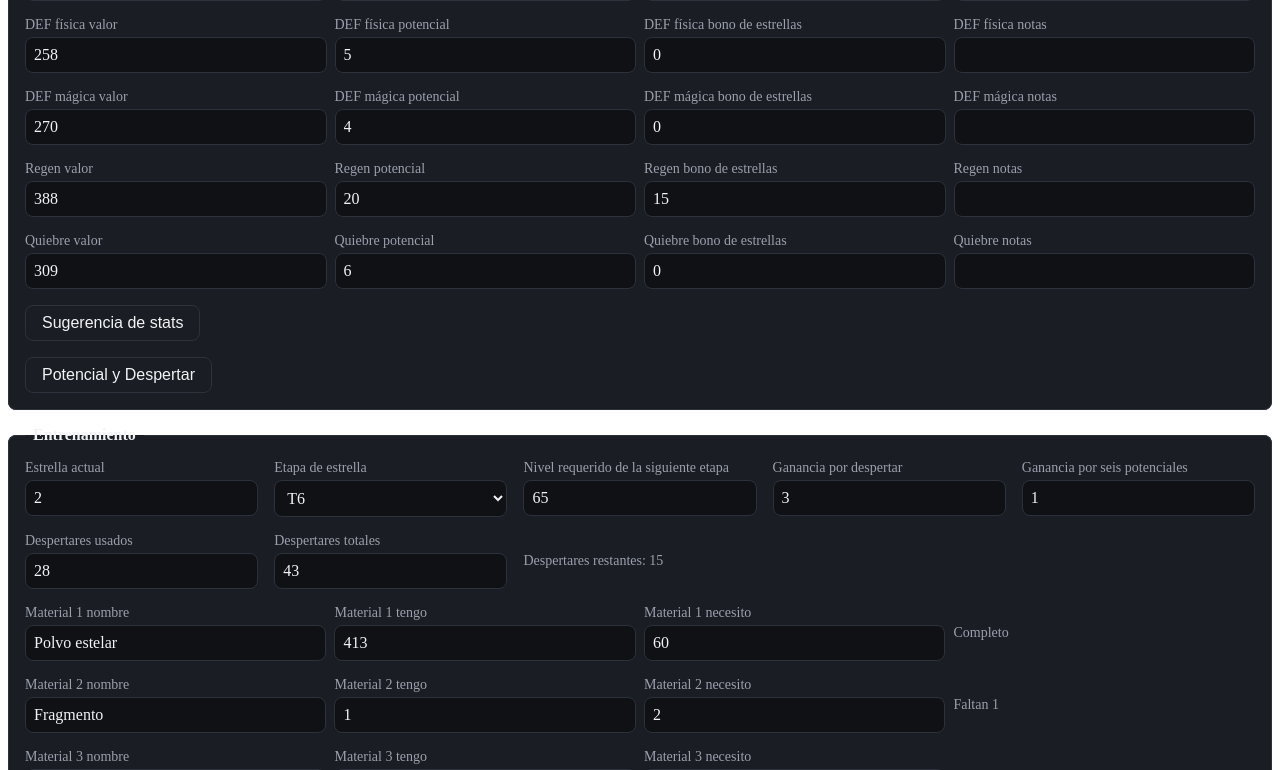
calcular potencial › muestra los parametros con su confianza y la fecha de parche del catalogo
(page scrolled)
Click the button "Potencial y Despertar": click(118, 375) [25,357,212,393]
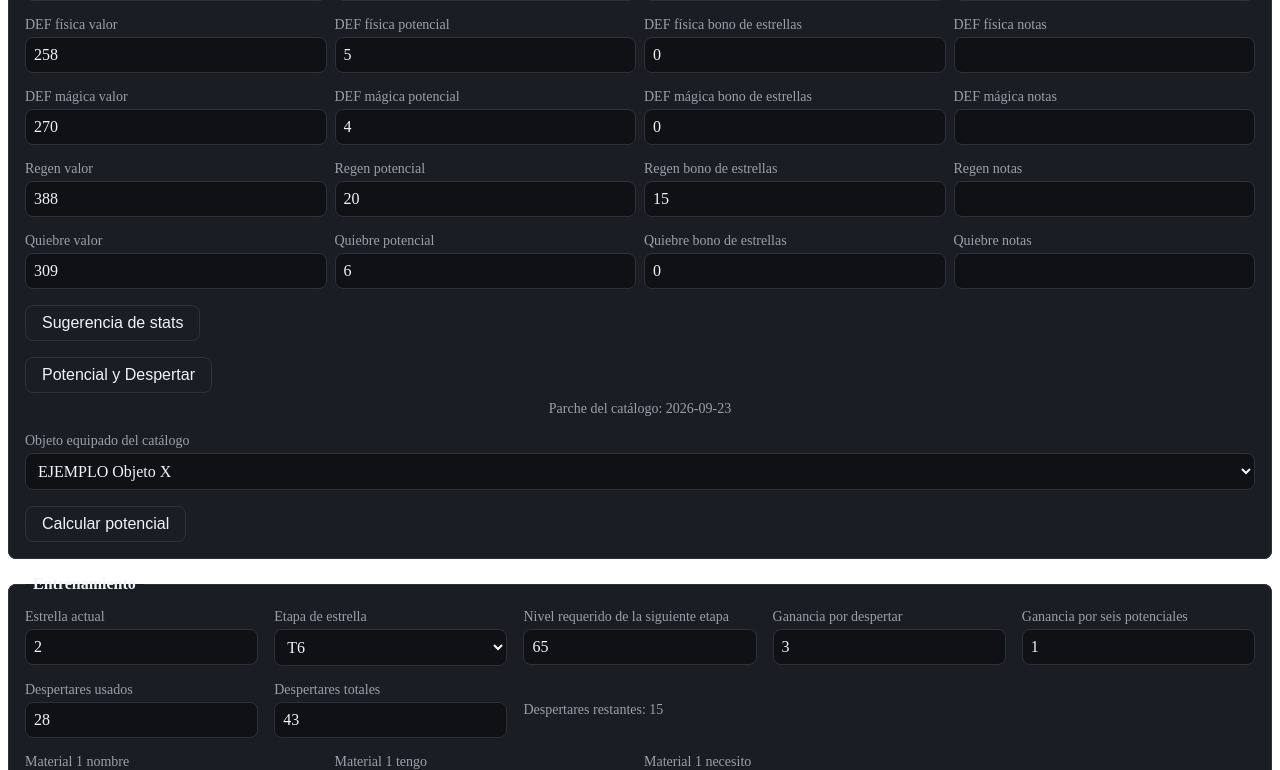
Now the button "Calcular potencial" is shown
Click the button "Calcular potencial": click(106, 524) [25,506,186,542]
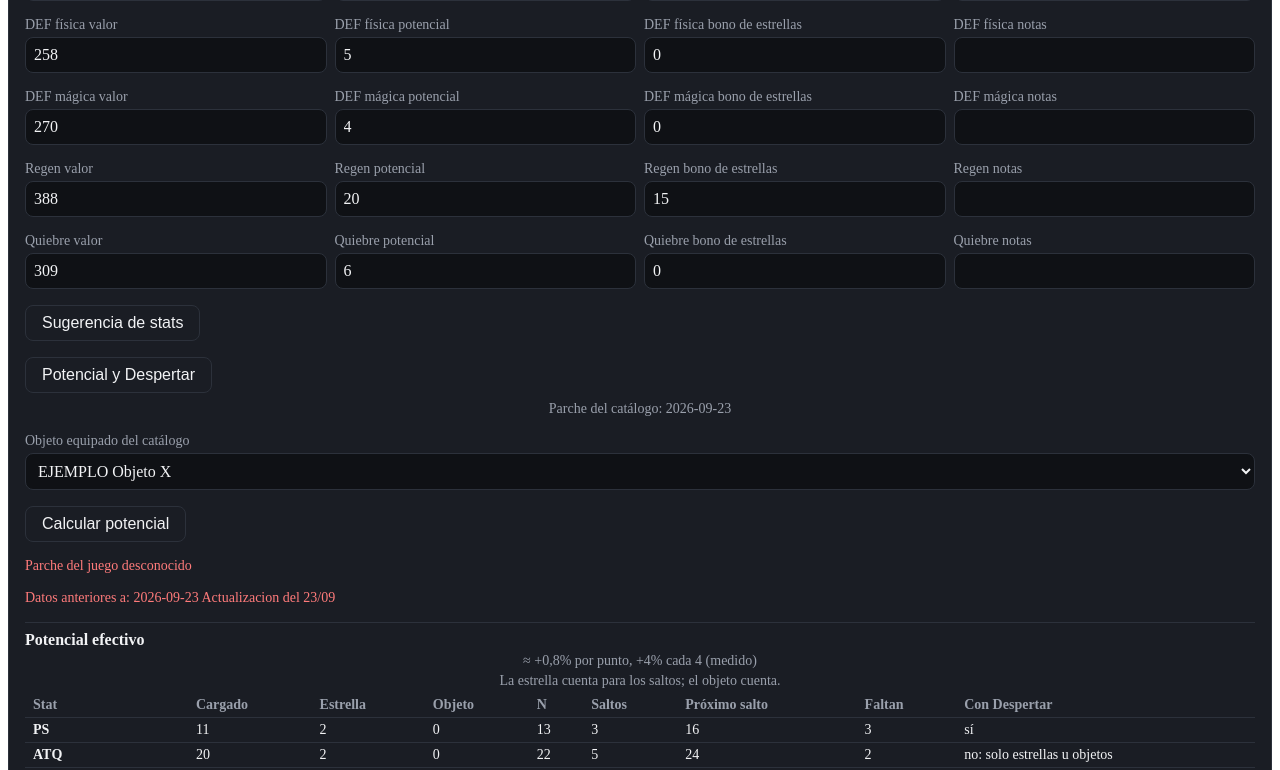
Now the text "Parche del catálogo: 2026-09-23" is shown, box [549,401,731,417]
Now the text "≈ +0,8% por punto, +4% cada 4 (medido)" is shown, box [523,653,757,669]
